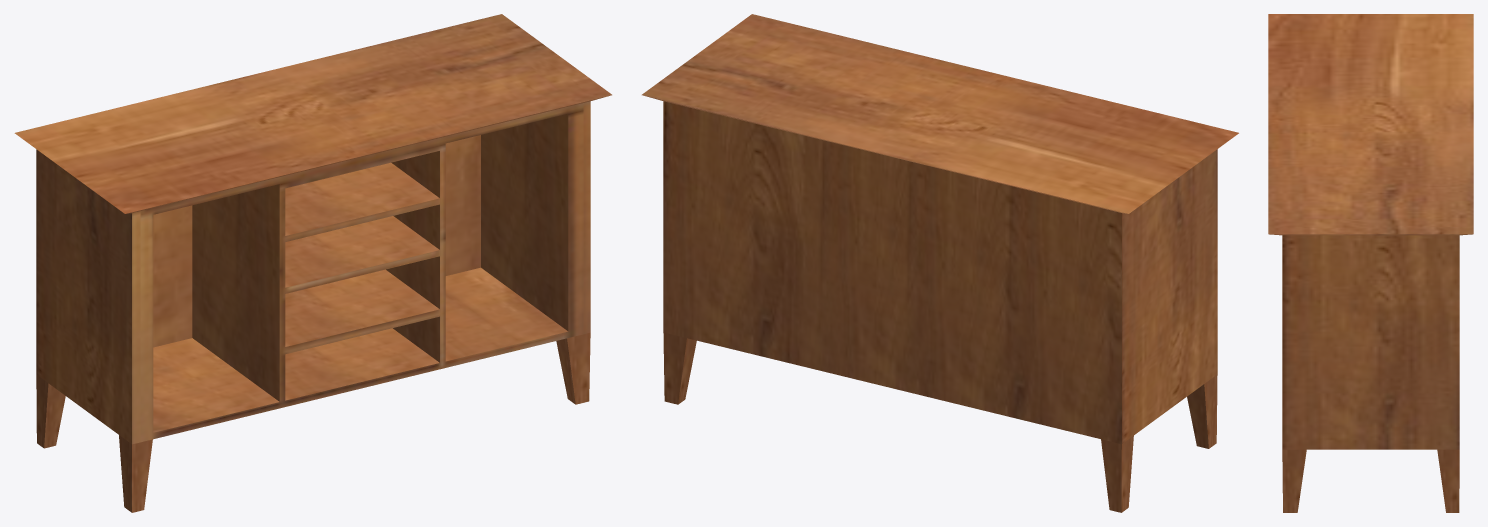
The model's file is Chest_drawers_05_001-col.glb.
3 renders of one model, left to right at view 1: azimuth 30°, elevation 25°; view 2: azimuth 150°, elevation 25°; view 3: azimuth 270°, elevation 25°, orthographic. The views are drawn at different scales.
Parts seen in each view (by area): view 1: Chest_drawers_05.001-col; view 2: Chest_drawers_05.001-col; view 3: Chest_drawers_05.001-col.
Boxes of the visible parts, box(x1,y1,x2,y2) form: Chest_drawers_05.001-col: box(14, 14, 611, 512); Chest_drawers_05.001-col: box(642, 14, 1238, 512); Chest_drawers_05.001-col: box(1268, 14, 1473, 512).
Size of the model in its own units: 1.74 by 1.05 by 0.6849.
1 material, 1 textured.
